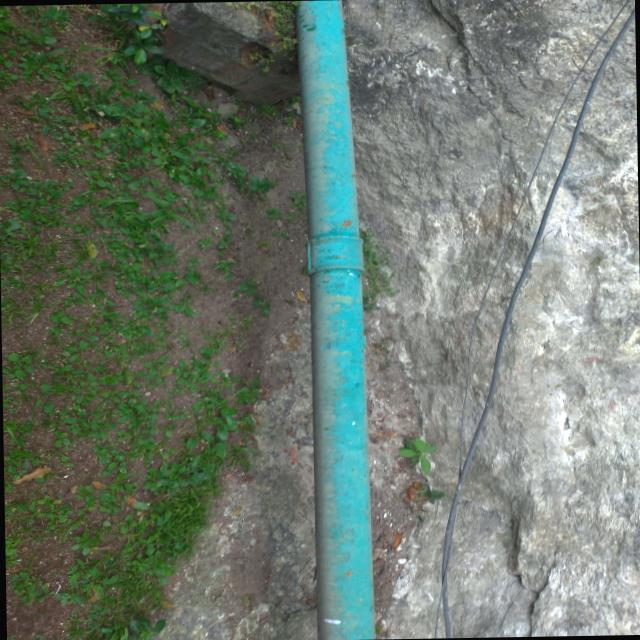gas: (294, 0, 372, 640)
